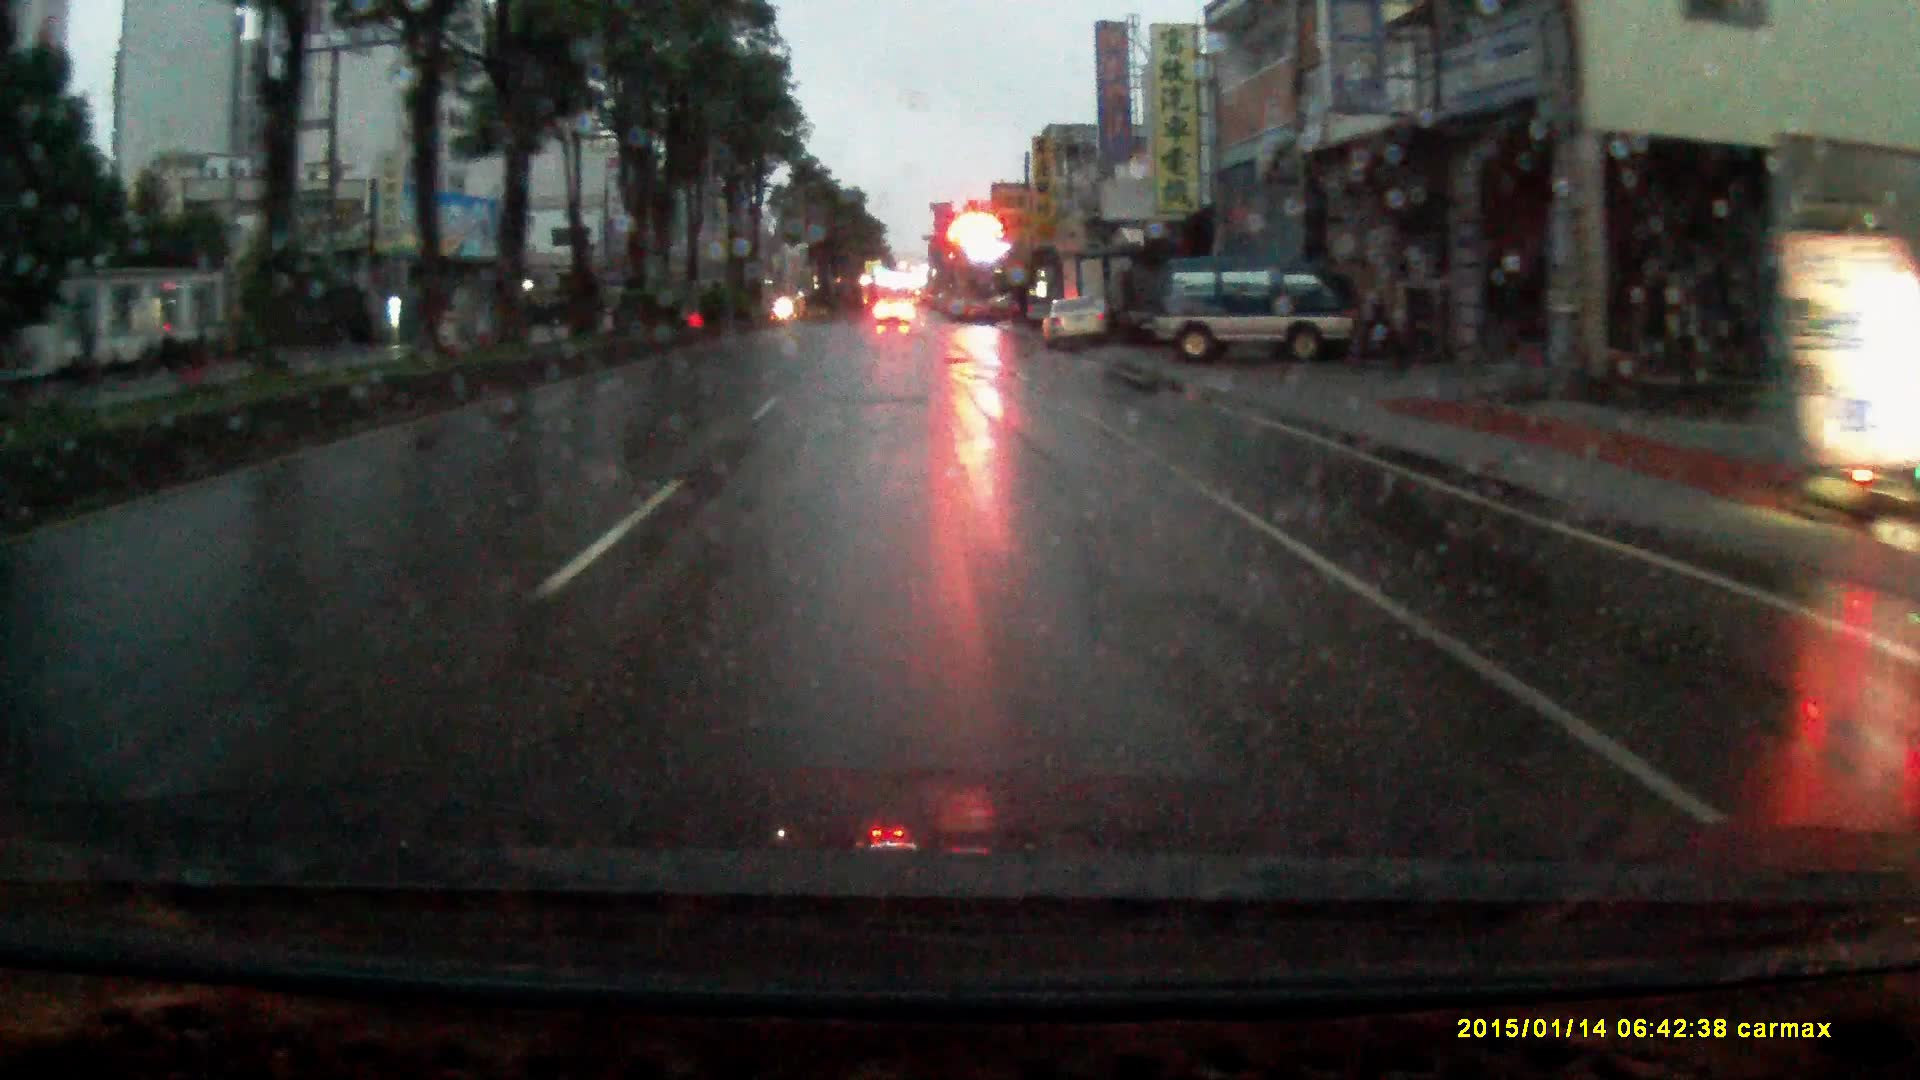vehicle: (1150, 252, 1378, 368), (1060, 248, 1139, 343), (1040, 295, 1108, 351), (876, 299, 913, 328)
